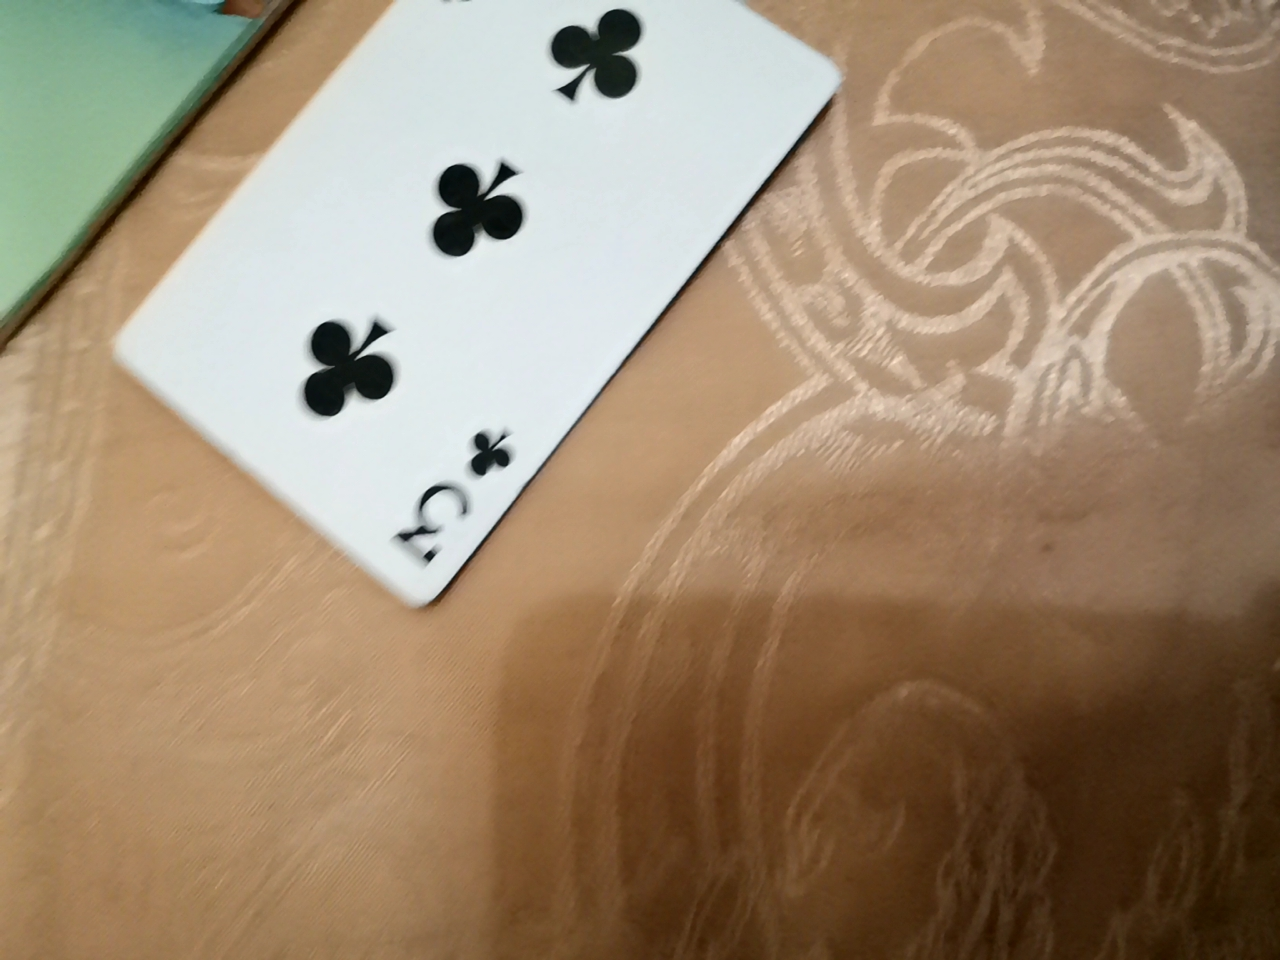mh 3: (145, 3, 871, 592)
